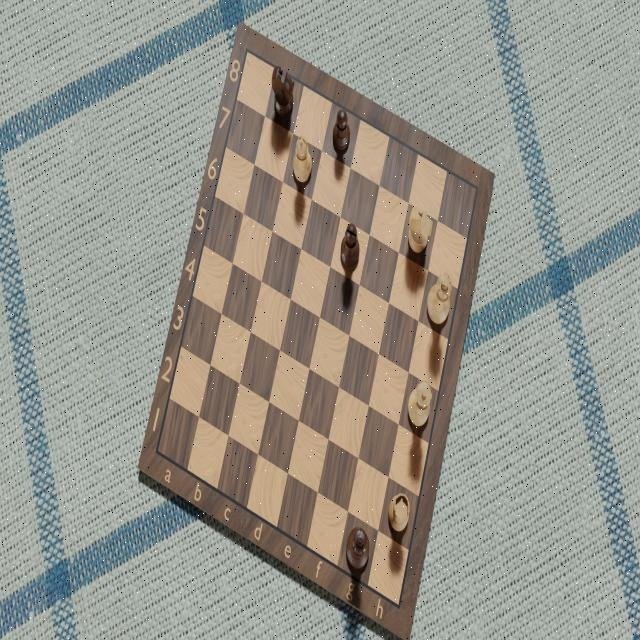black-bishop: (339, 222, 361, 273)
black-king: (346, 524, 372, 576)
black-knight: (273, 67, 295, 129)
black-pawn: (332, 106, 353, 156)
white-bishop: (290, 137, 313, 186)
white-king: (425, 274, 451, 334)
white-knight: (405, 204, 433, 257)
white-queen: (407, 380, 433, 435)
white-rook: (389, 491, 412, 540)
